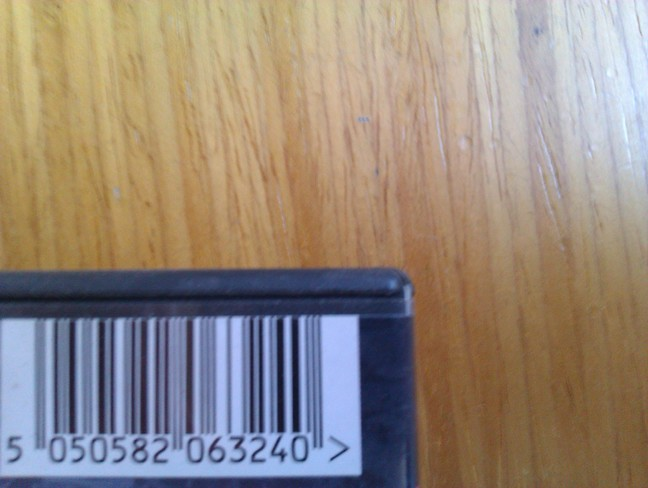detection: (2, 314, 362, 475)
